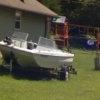Boat: (0, 24, 78, 81)
